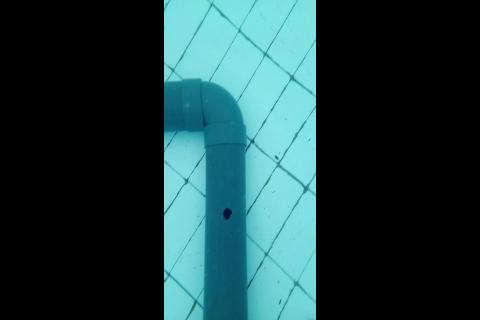kebocoran: (221, 206, 233, 219)
